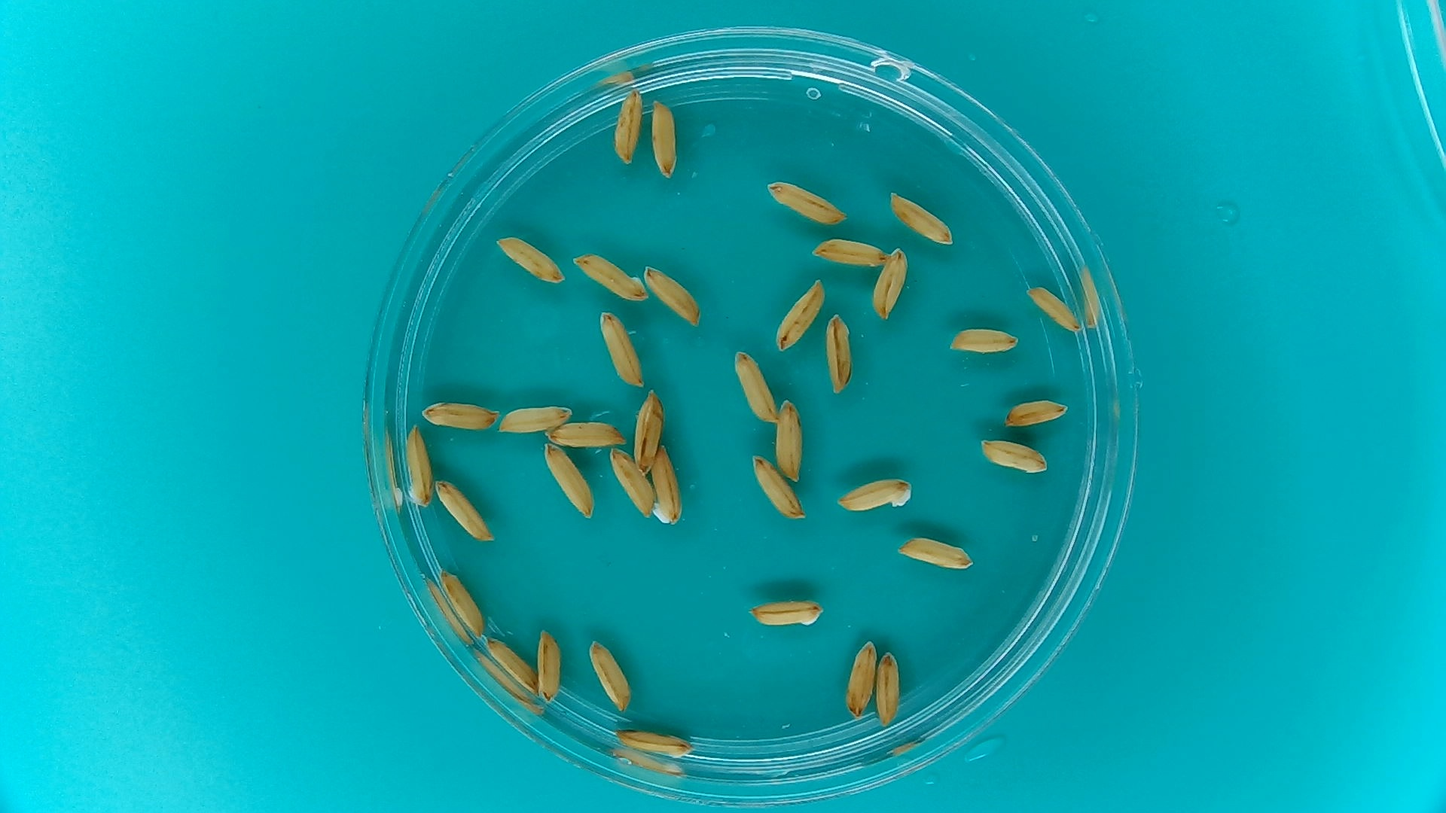no: (540, 440, 596, 522), (746, 450, 809, 522), (492, 230, 569, 288), (569, 248, 648, 304), (433, 476, 497, 545), (764, 175, 850, 225), (642, 262, 705, 330), (885, 189, 956, 248), (773, 275, 827, 352), (595, 308, 645, 389), (435, 565, 486, 640), (737, 597, 828, 638), (731, 347, 778, 426), (586, 636, 633, 714), (606, 446, 655, 519), (481, 633, 537, 696), (831, 473, 915, 514), (893, 533, 977, 573), (841, 635, 878, 722), (419, 394, 501, 433), (646, 93, 682, 181), (631, 386, 666, 476), (773, 396, 807, 486), (650, 441, 685, 528), (611, 724, 695, 760), (610, 84, 645, 169), (1023, 283, 1082, 333), (871, 245, 909, 322), (823, 309, 856, 397), (496, 400, 575, 436), (403, 422, 435, 510), (978, 436, 1050, 474), (810, 233, 889, 267), (545, 416, 627, 448), (534, 626, 565, 705), (873, 646, 903, 727), (947, 324, 1022, 355), (1001, 395, 1071, 428)
